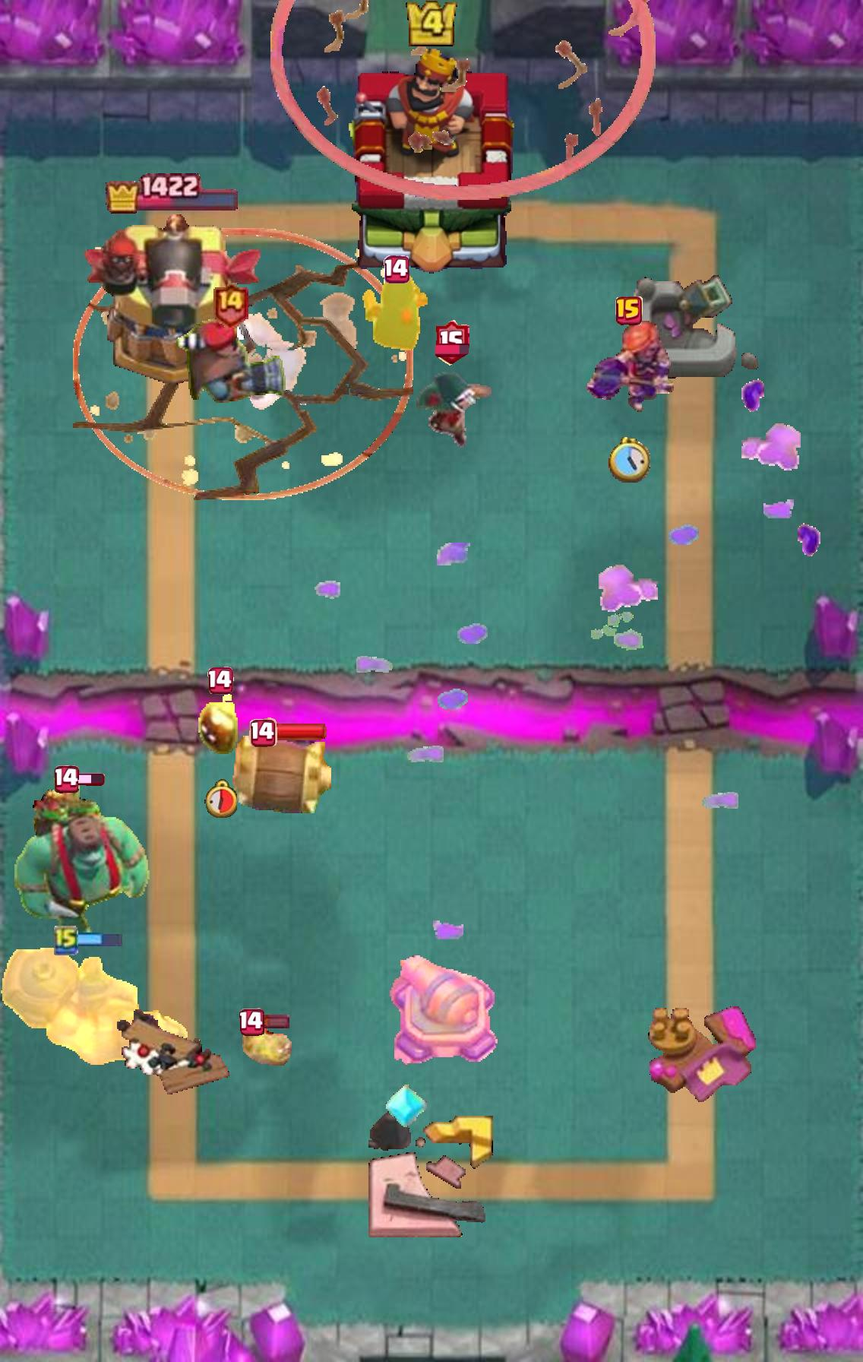cannon: (386, 950, 503, 1075)
